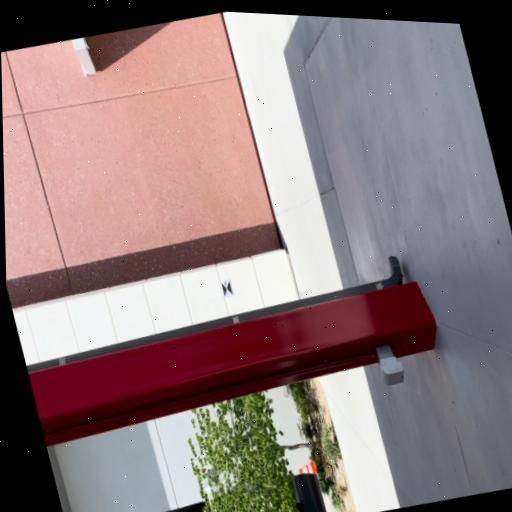target9: (221, 279, 233, 297)
